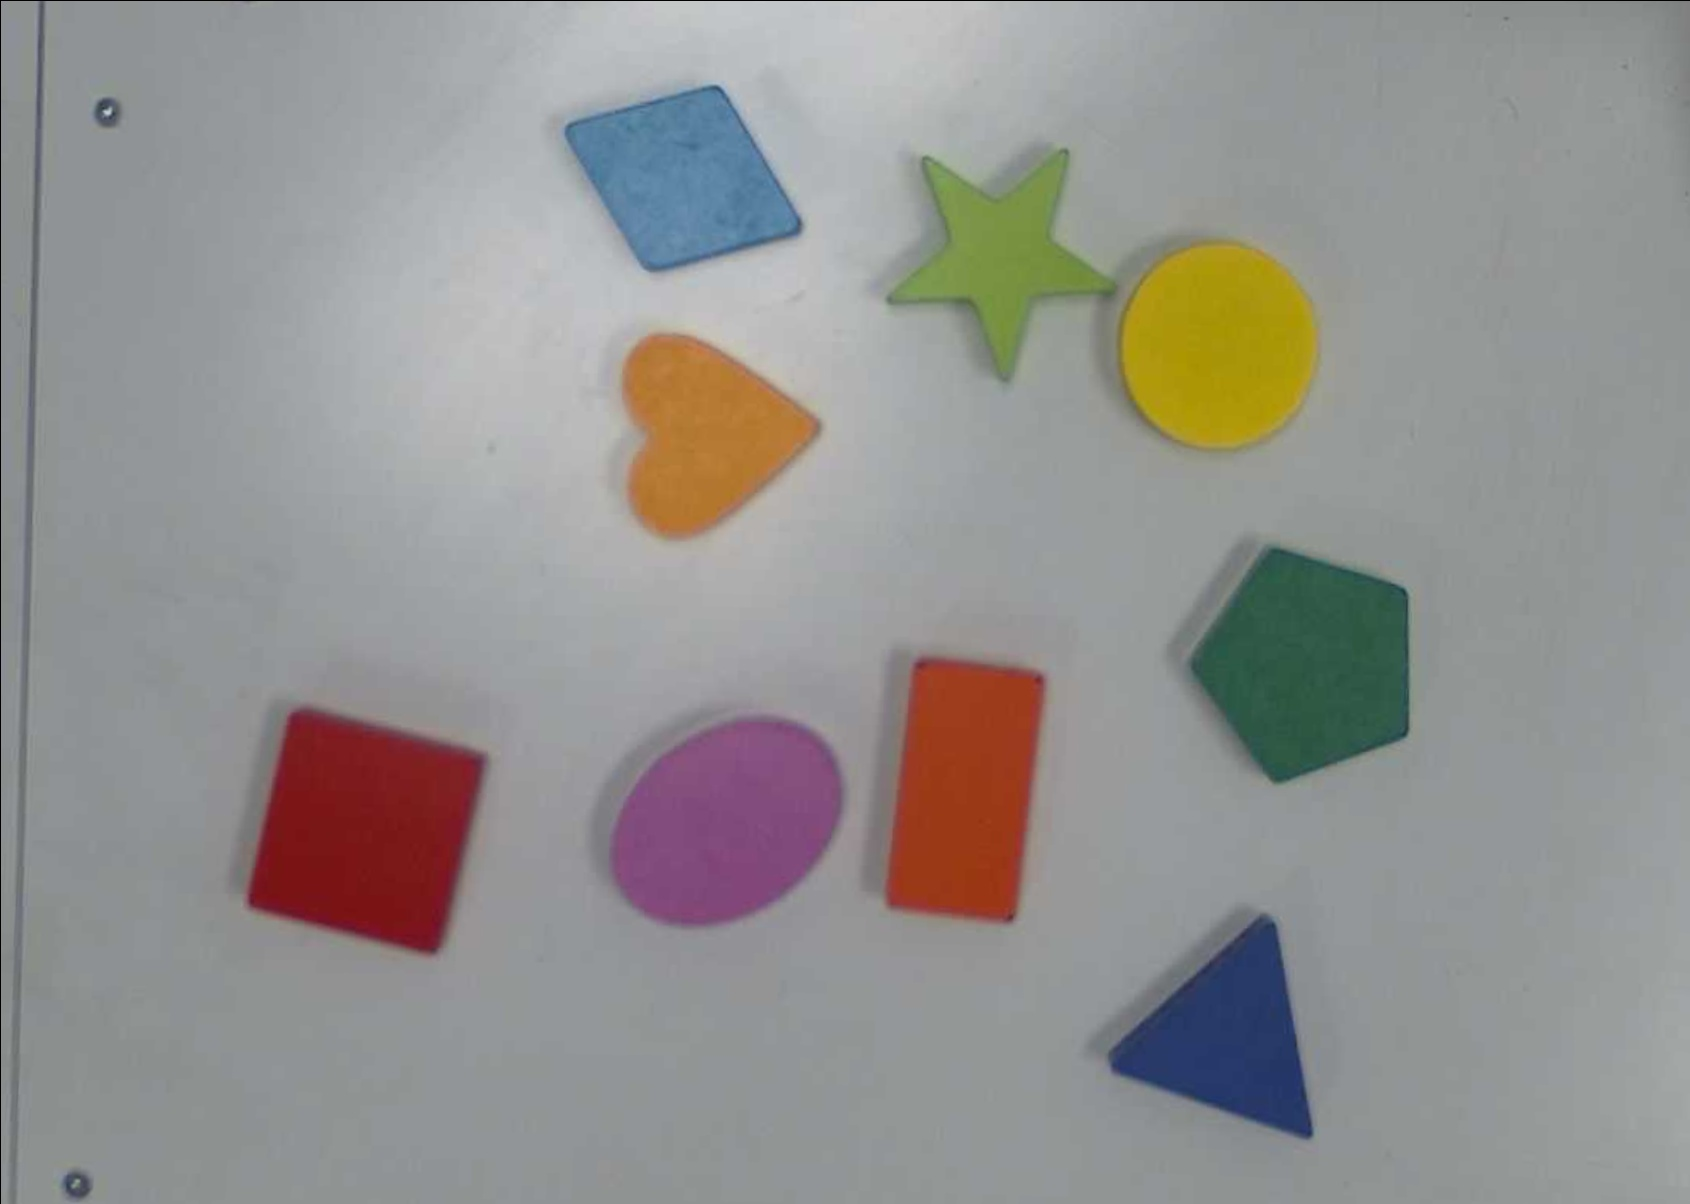Circle: (1114, 241, 1324, 451)
Ellipse: (606, 714, 850, 926)
Heart: (620, 332, 821, 537)
Parallelogram: (562, 83, 807, 275)
Pentagon: (1182, 543, 1415, 783)
Rectangle: (883, 654, 1048, 921)
Square: (246, 706, 487, 958)
Star: (882, 143, 1119, 382)
Triangle: (1108, 908, 1319, 1144)
